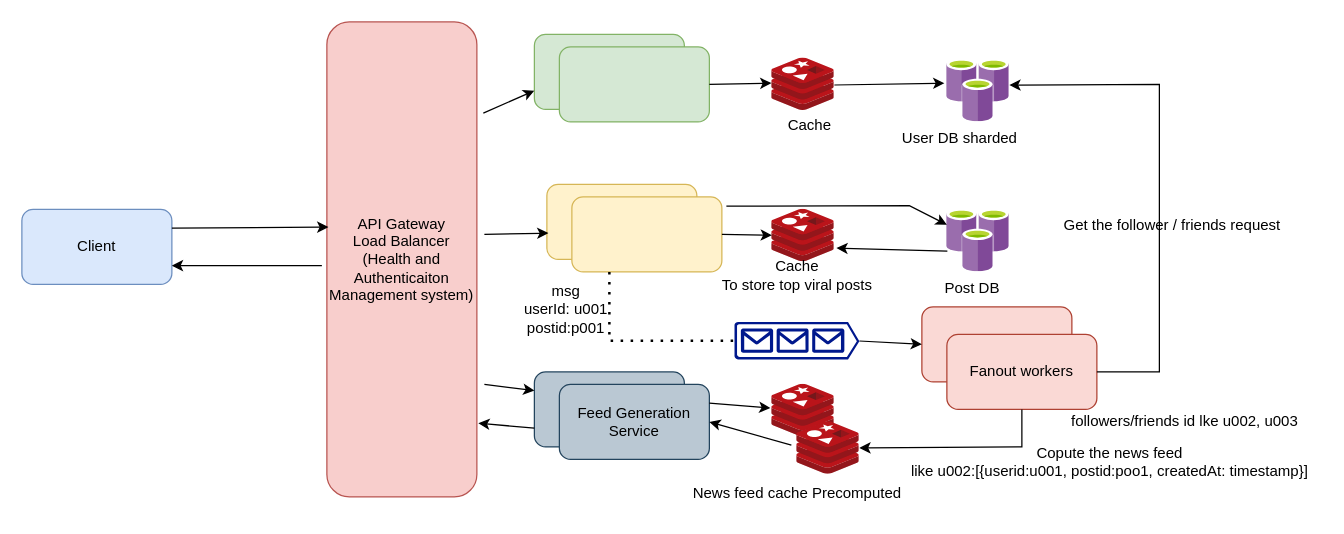
Some shapes in this 1344 by 534 pixel diagram are drawn without their labels. The centre of each missing label's shape, as x and y in pixels:
"Post service" belongs at pixel 646 234.
"User service" belongs at pixel 633 84.
